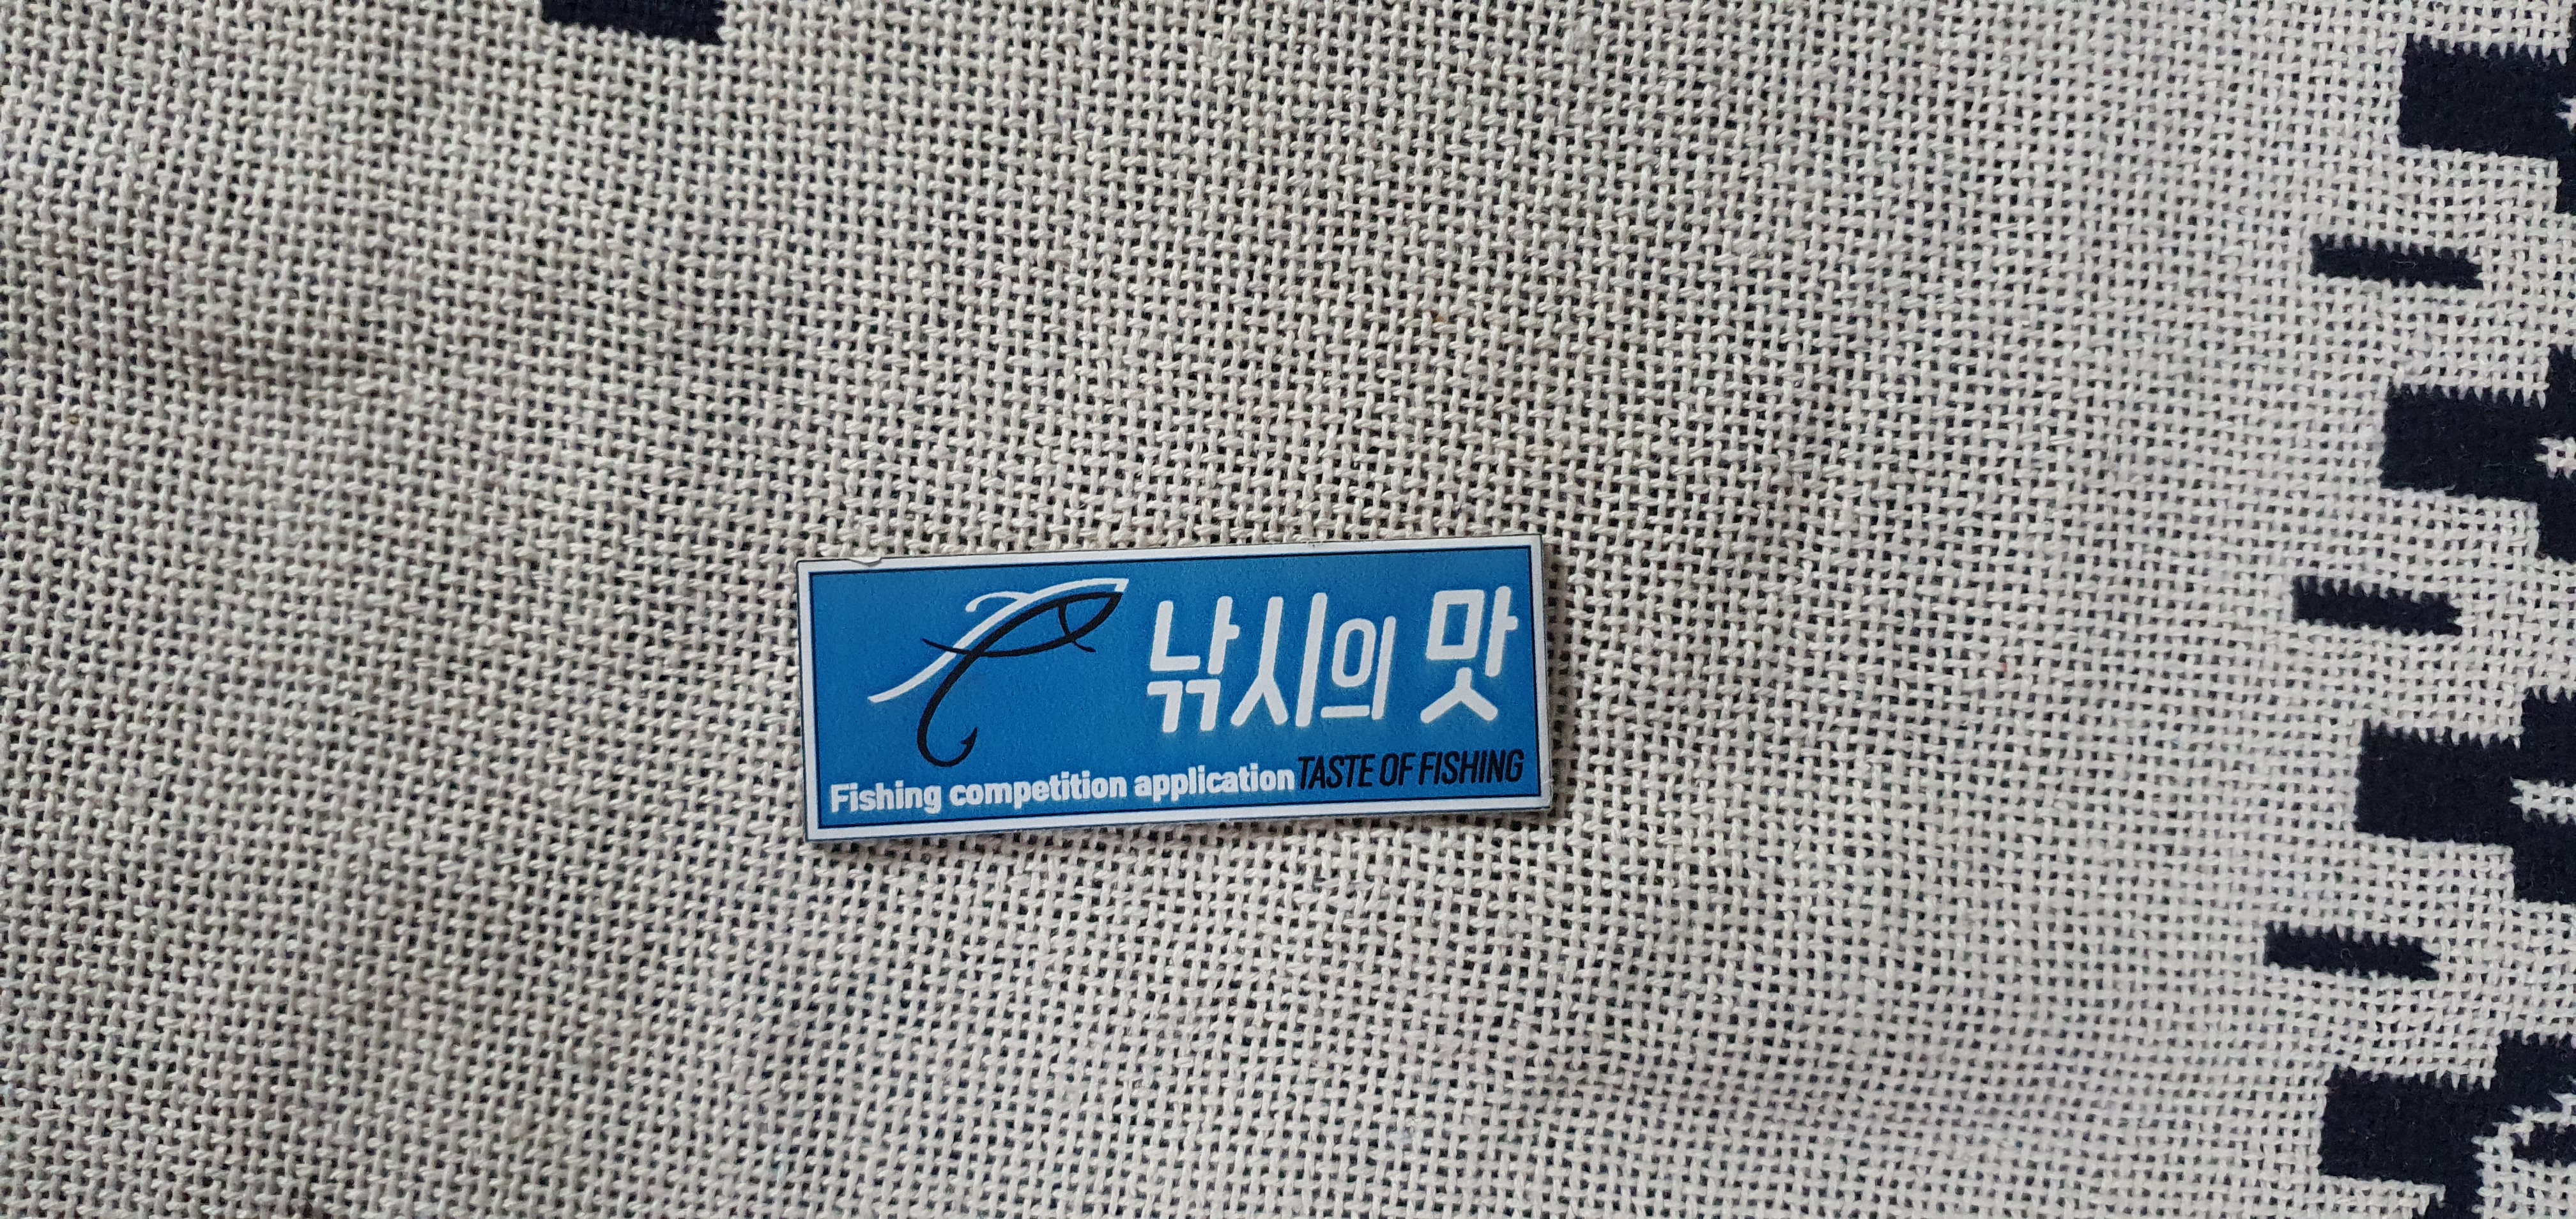tag: (797, 537, 1556, 826)
